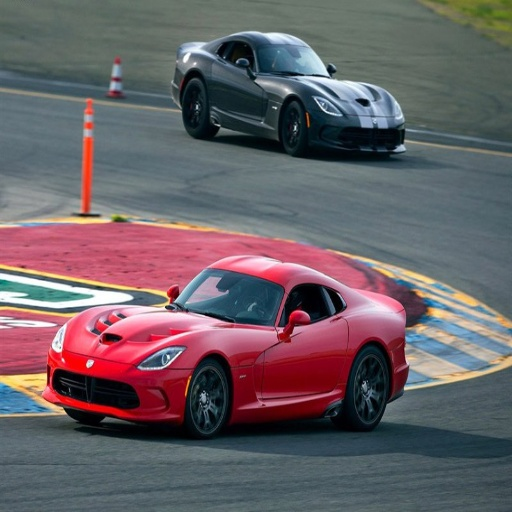back_bumper: (48, 371, 142, 414)
back_left_door: (313, 279, 352, 393)
front_bumper: (313, 98, 393, 152)
front_glass: (167, 269, 281, 323), (262, 39, 328, 74)
front_left_door: (263, 279, 323, 405), (218, 38, 254, 112)
trunk: (52, 305, 162, 379)
